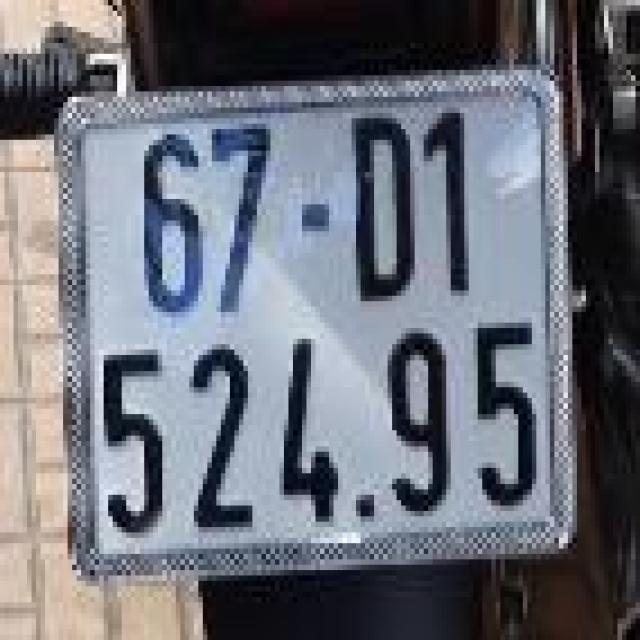1: (422, 107, 484, 312)
2: (187, 344, 259, 532)
4: (273, 334, 358, 527)
5: (79, 336, 178, 551), (460, 309, 559, 514)
6: (126, 118, 208, 323)
7: (207, 105, 284, 320)
9: (365, 315, 464, 524)
D: (320, 83, 424, 310)
